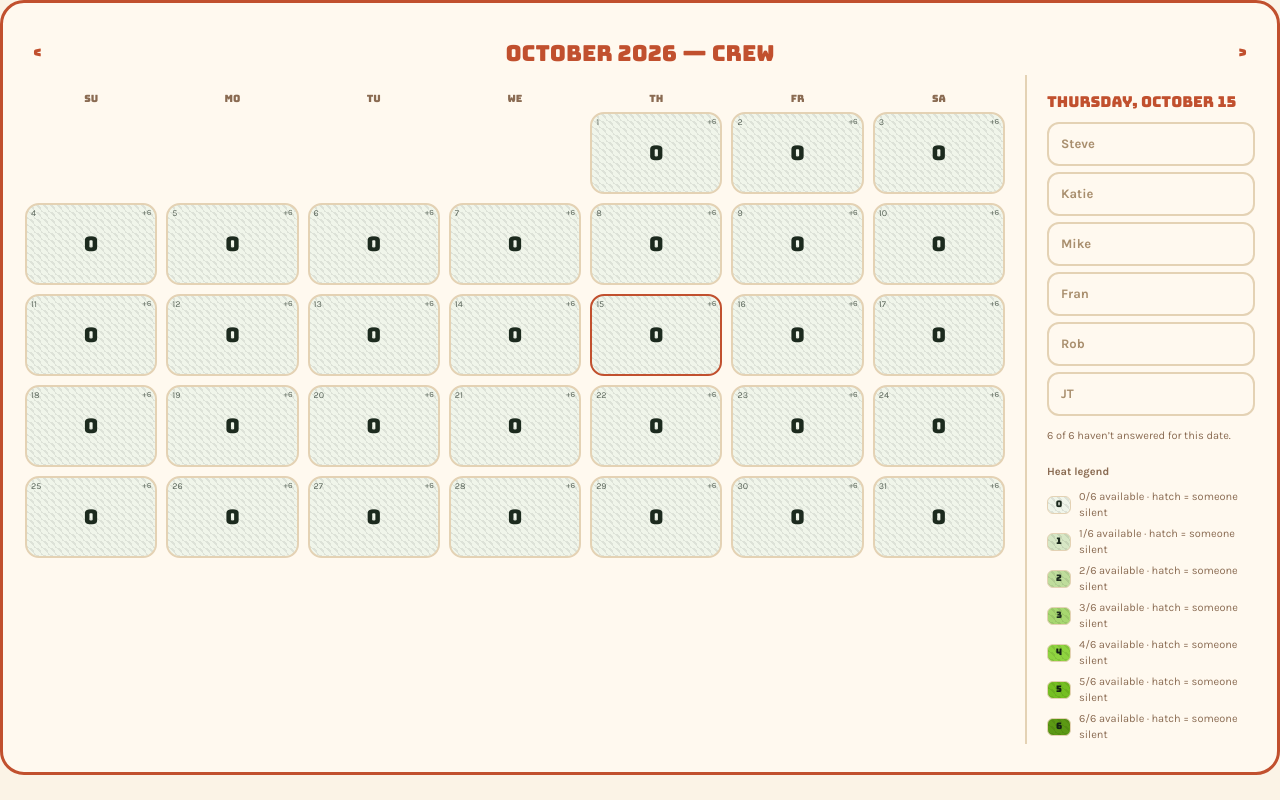
it: the detail panel › follows the date you tap
The width and height of the screenshot is (1280, 800).
What coordinates should you click on to do the following:
click the button "23 +6 0"
I would click on:
 (798, 426)
Its box is [731,385,864,467].
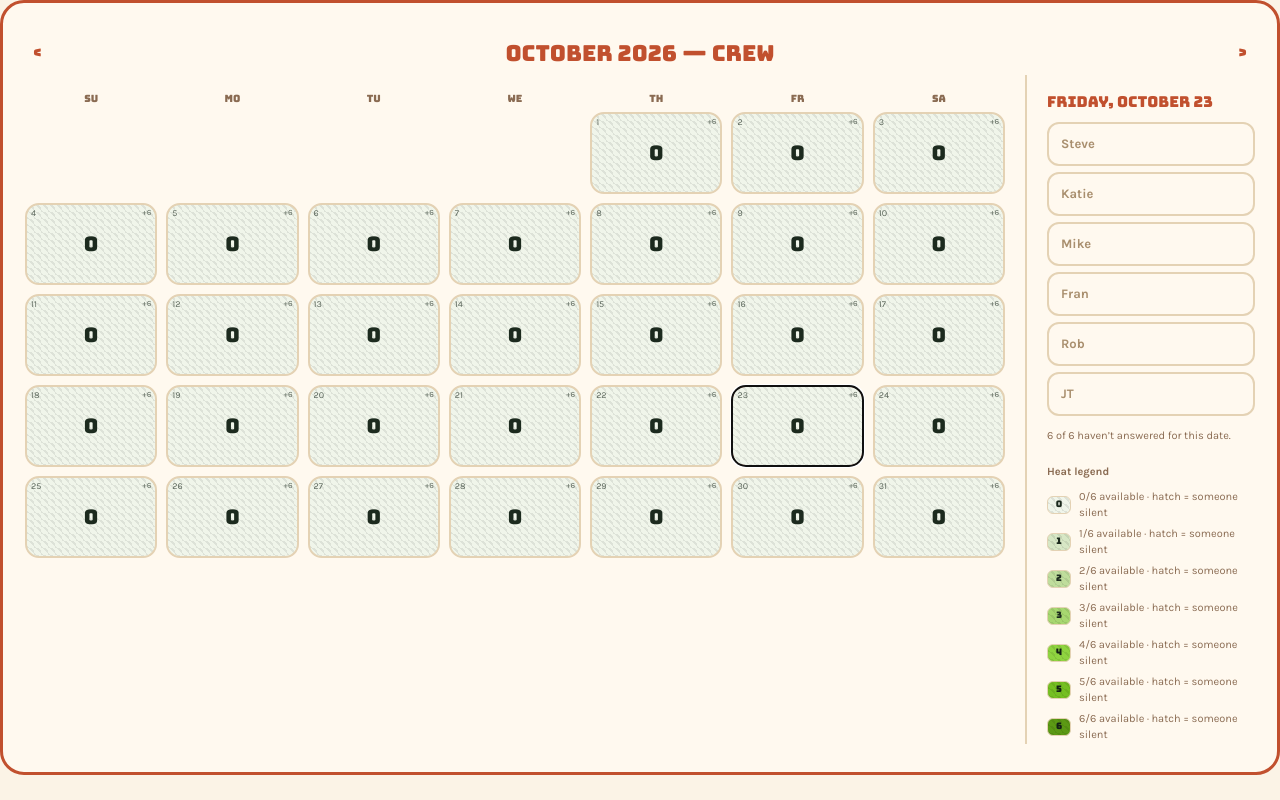
Now the heading "Friday, October 23" is shown, box [1047,92,1213,112]
